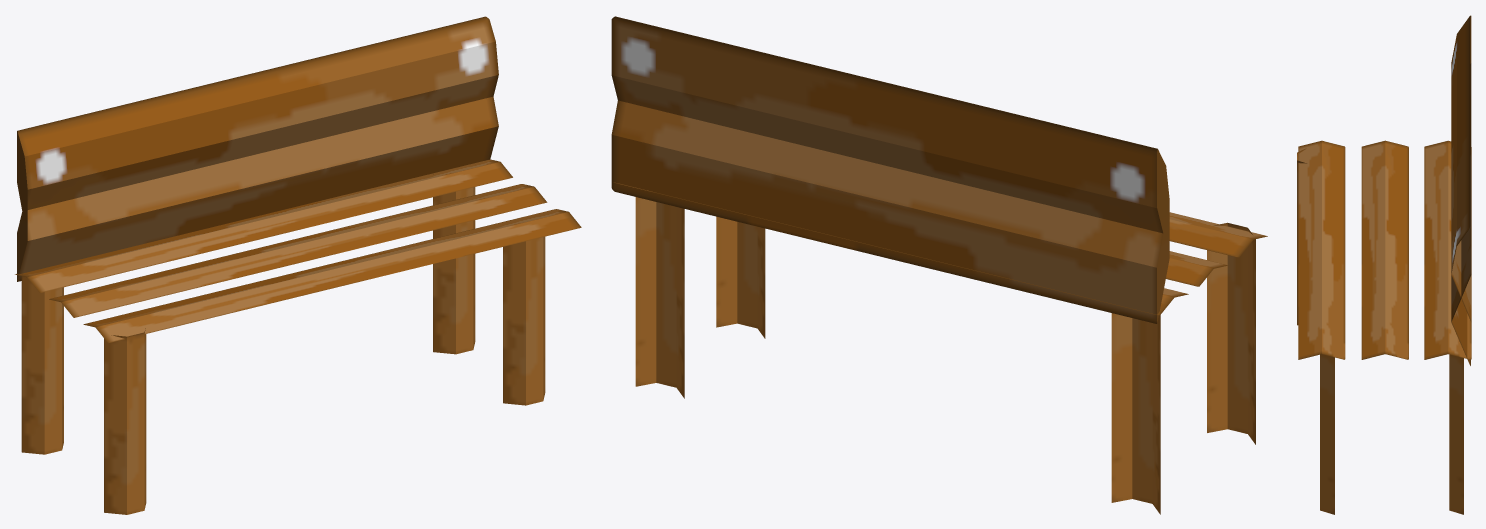
File: Bench_Model.fbx
3 views of the same model, side by side, from view 1: azimuth 30°, elevation 25°; view 2: azimuth 150°, elevation 25°; view 3: azimuth 270°, elevation 25° (orthographic). The views are drawn at different scales.
Visible parts, largest first — view 1: Plane, Plane.002, Plane.003, Plane.001, Plane.008, Plane.004, Plane.006, Plane.005; view 2: Plane, Plane.004, Plane.005, Plane.008, Plane.006, Plane.003, Plane.002, Plane.001; view 3: Plane.002, Plane.003, Plane.001, Plane, Plane.006, Plane.005, Plane.008.
Boxes of the visible parts, box(x1,y1,x2,y2) form: Plane: box(17, 16, 498, 281); Plane.002: box(49, 184, 547, 317); Plane.003: box(83, 209, 581, 343); Plane.001: box(15, 159, 512, 292); Plane.008: box(104, 328, 146, 514); Plane.004: box(21, 276, 63, 454); Plane.006: box(503, 236, 545, 405); Plane.005: box(433, 174, 475, 354); Plane: box(611, 16, 1169, 323); Plane.004: box(1111, 313, 1160, 514); Plane.005: box(635, 197, 684, 398); Plane.008: box(1207, 222, 1255, 444); Plane.006: box(716, 216, 765, 338); Plane.003: box(1169, 212, 1267, 257); Plane.002: box(1166, 251, 1227, 286); Plane.001: box(613, 182, 1188, 315); Plane.002: box(1361, 140, 1408, 359); Plane.003: box(1298, 140, 1345, 359); Plane.001: box(1424, 140, 1471, 359); Plane: box(1451, 15, 1471, 365); Plane.006: box(1320, 354, 1334, 514); Plane.005: box(1449, 354, 1463, 514); Plane.008: box(1297, 148, 1306, 325).
Size of the model in its own units: 144 by 92.88 by 49.67.
8 materials, 8 textured.
